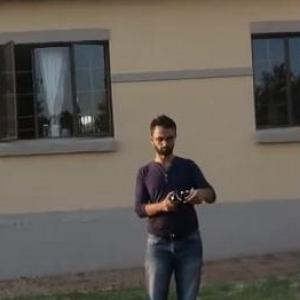follow: (128, 106, 221, 299)
